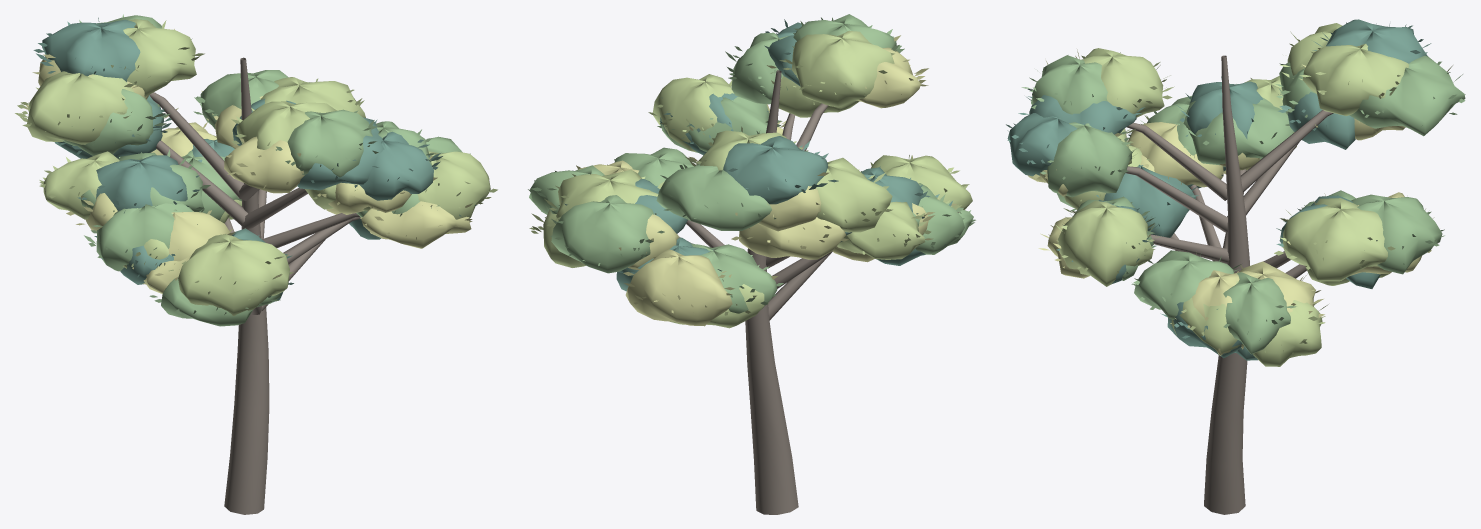
Rendered from oak_leaning.glb.
3 renders of one model, left to right at view 1: azimuth 30°, elevation 25°; view 2: azimuth 150°, elevation 25°; view 3: azimuth 270°, elevation 25°, orthographic. The views are drawn at different scales.
Visible parts, largest first — view 1: oak_leaning; view 2: oak_leaning; view 3: oak_leaning.
Part boxes in pixels (box(x1,y1,x2,y2)): oak_leaning: box(15, 14, 497, 514); oak_leaning: box(528, 14, 975, 514); oak_leaning: box(1006, 19, 1465, 514).
Size of the model in its own units: 8.19 by 8.41 by 7.83.
